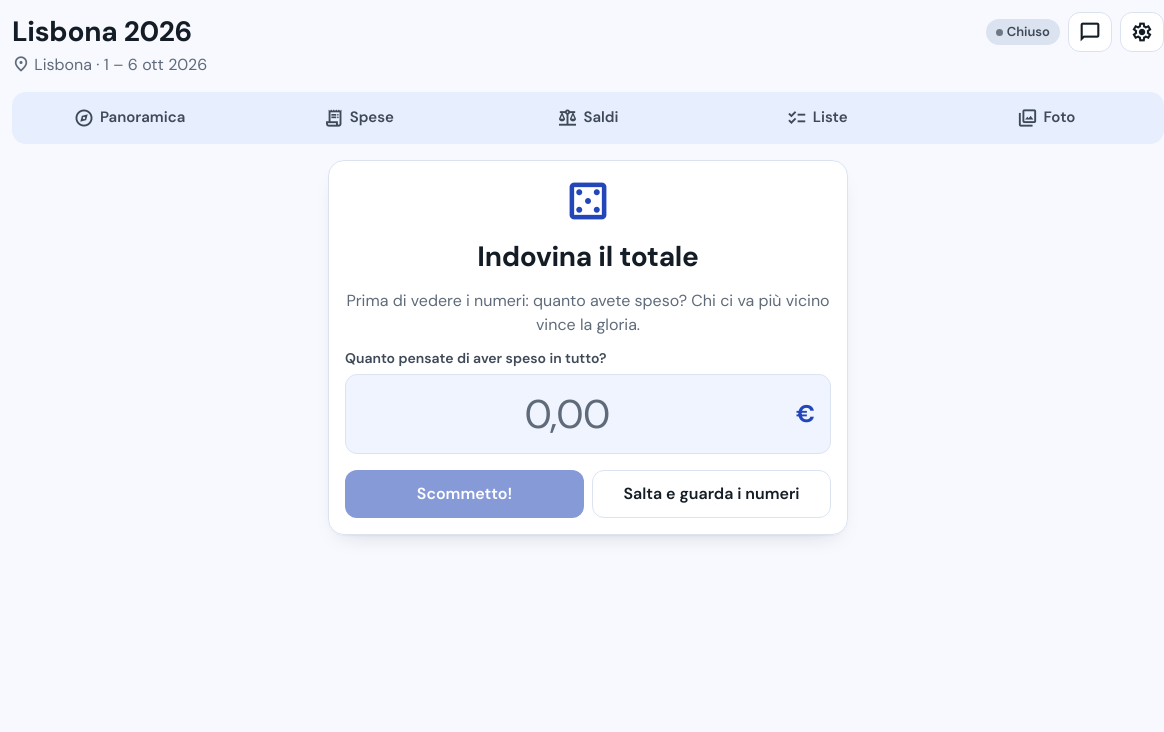
Test: «Indovina il totale» oltre il tetto lo dice, invece di spegnere solo il bottone
The image size is (1164, 732).
Click the field labelled "Quanto pensate di aver speso in tutto?" at (588,414), box 345,374 -> 831,454
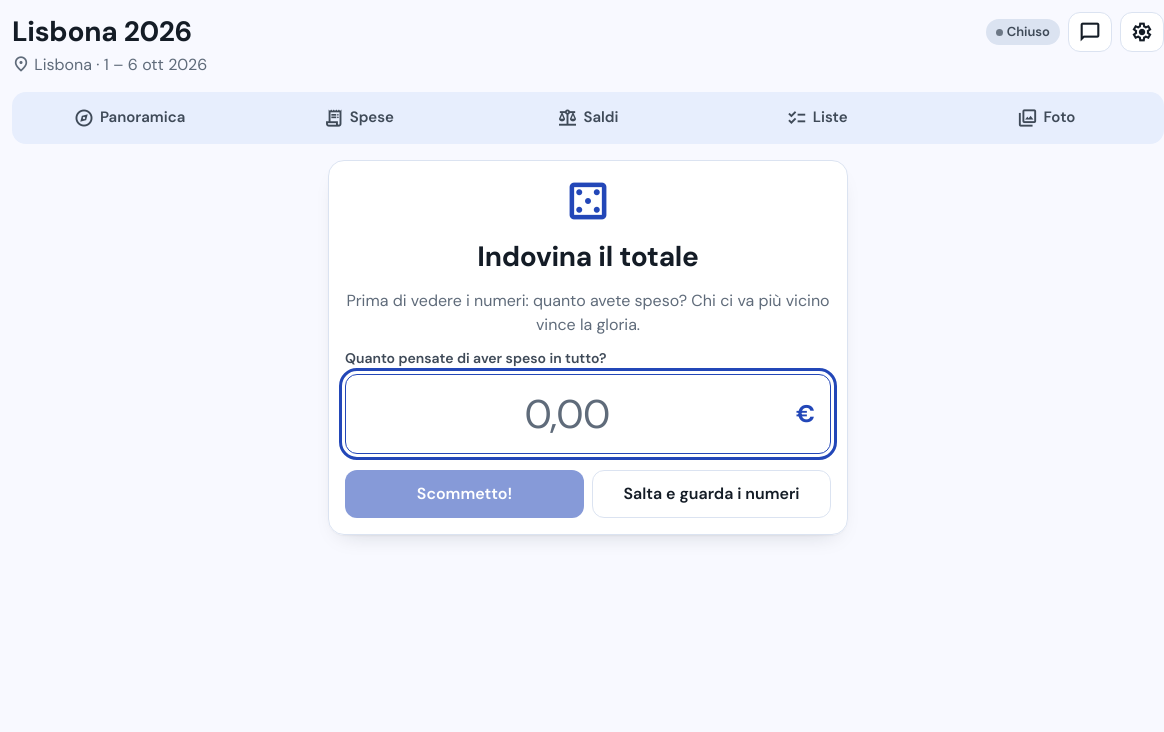
Type keys "1000000"
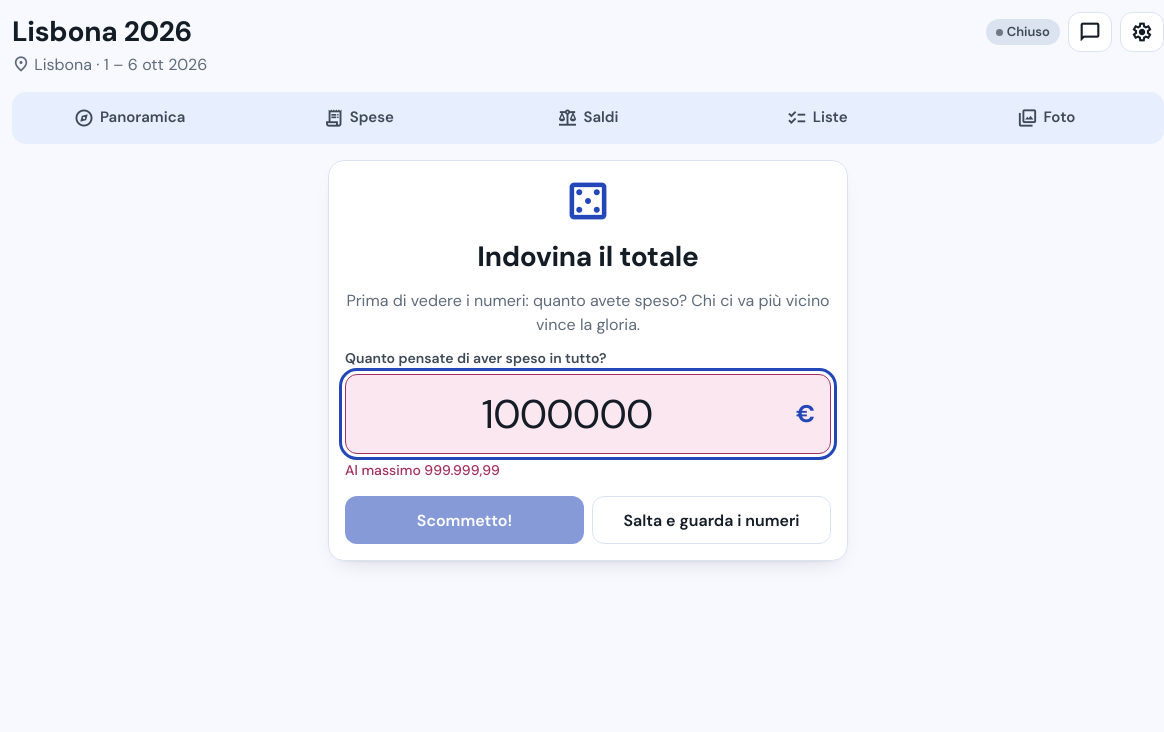
expect the text "Al massimo 999.999,99" is shown: met, box 345,461 -> 500,479
